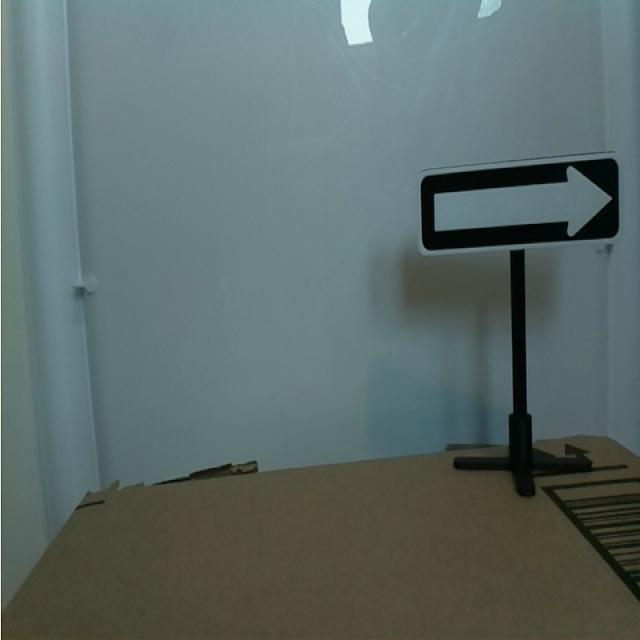sign_oneway_right: (406, 143, 630, 268)
